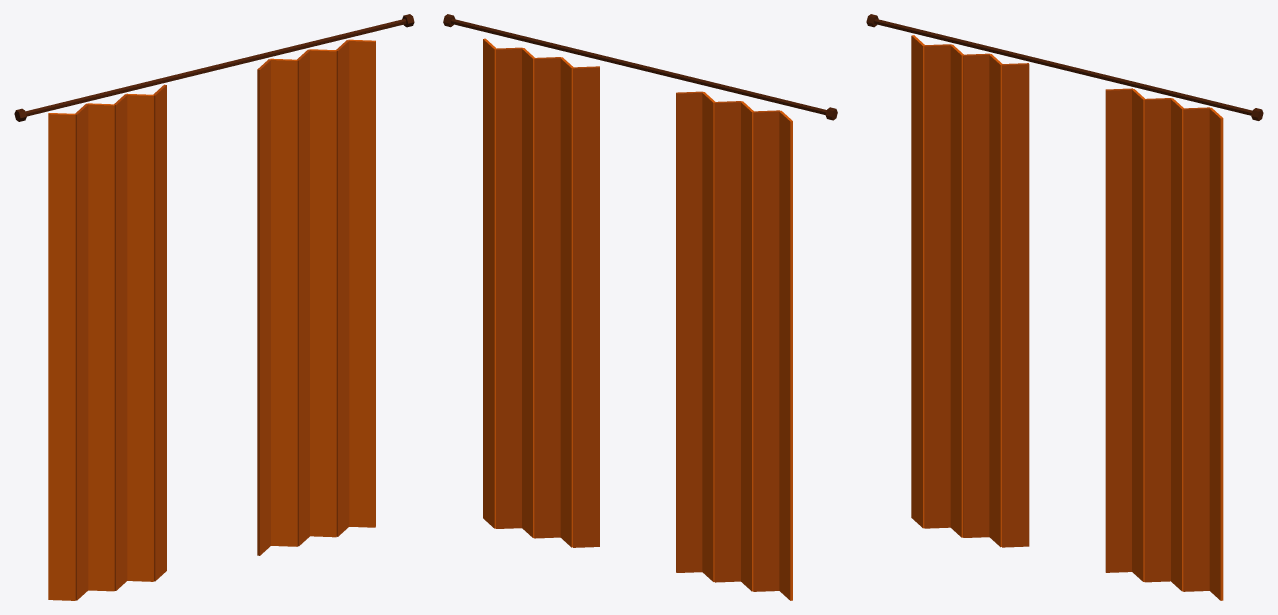
File: Curtain.fbx
3 views of the same model, side by side, from view 1: azimuth 30°, elevation 25°; view 2: azimuth 150°, elevation 25°; view 3: azimuth 330°, elevation 25° (orthographic).
Parts seen in each view (by area): view 1: Curtain; view 2: Curtain; view 3: Curtain.
Boxes of the visible parts, x1,y1,x2,y2 form: Curtain: (14,14,414,600); Curtain: (443,14,837,600); Curtain: (866,14,1263,600).
Size of the model in its own units: 1.85 by 2.25 by 0.082.
